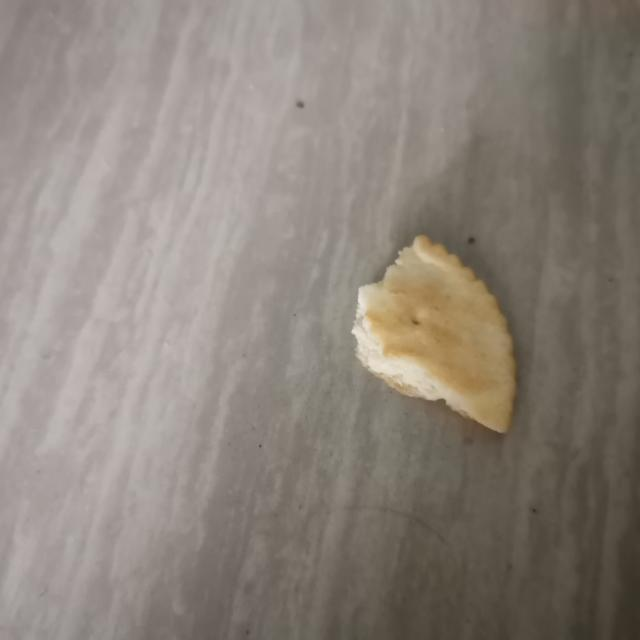Broken: (351, 233, 517, 435)
